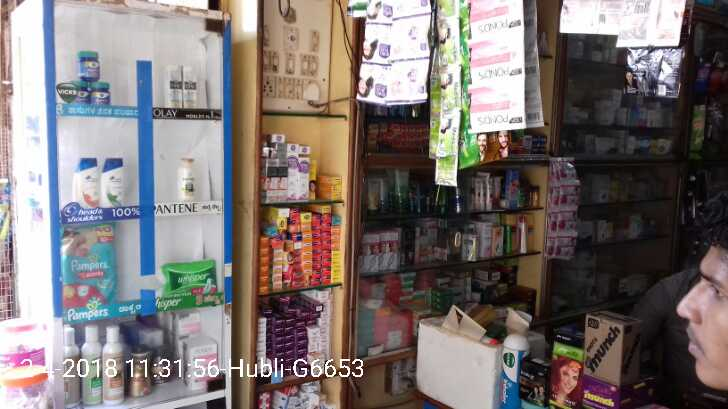vicks: (79, 51, 97, 81), (89, 82, 109, 104), (70, 81, 89, 104)
